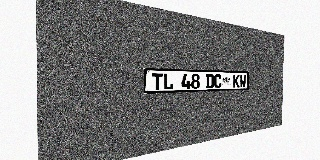plate: (143, 68, 249, 94)
